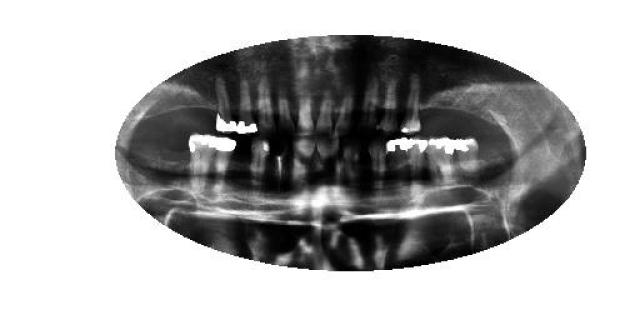Cavity: (270, 142, 289, 188)
Fillings: (188, 135, 216, 195), (210, 138, 238, 194), (212, 78, 238, 132), (383, 136, 408, 189), (236, 79, 259, 135), (430, 136, 455, 186), (406, 138, 429, 188), (402, 79, 422, 135), (455, 138, 477, 178)
